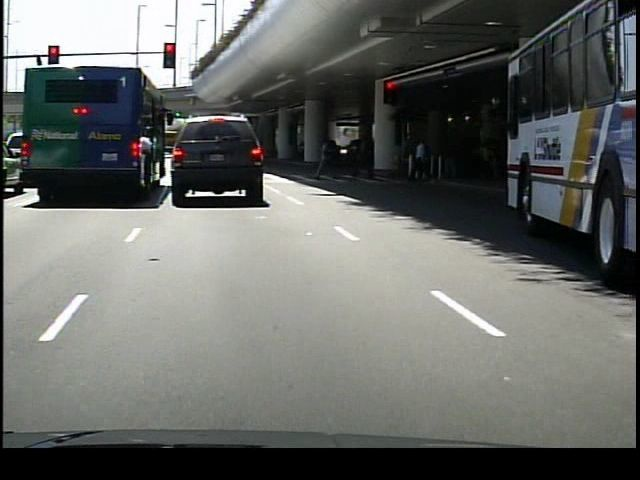person: (313, 132, 341, 182), (355, 129, 379, 185), (410, 135, 430, 187)
